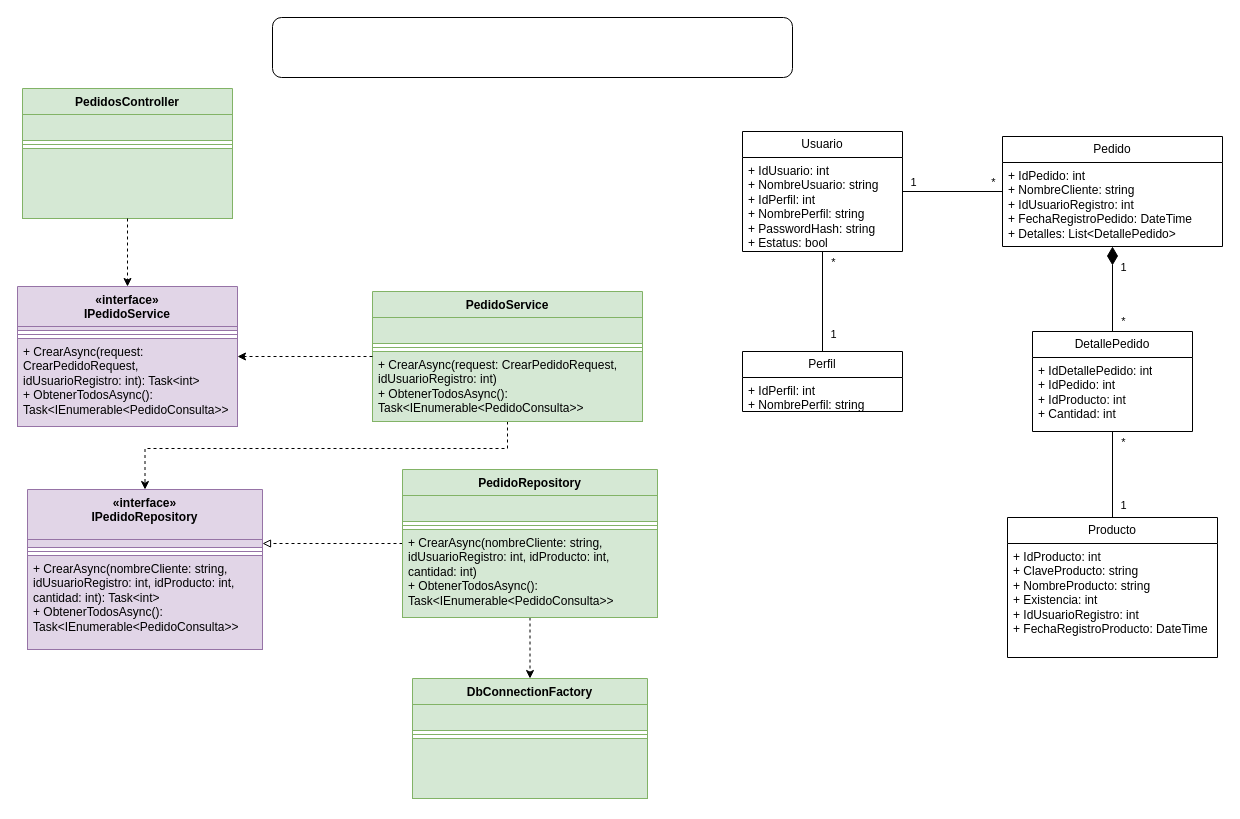
The diagram is 1240 pixels wide and 819 high, and some of its shapes have lost their labels. The shapes that lost their labels are listed below. From the top down, each one's centre as x and y in pixels, then its label:
[532,47]: Diagrama de clases — BSC
[127,127]: - _pedidoService: IPedidoService
[127,183]: + Crear(request: CrearPedidoRequest): Task<IActionResult> + ObtenerTodos()
[507,330]: - _pedidoRepository: IPedidoRepository
[530,508]: - _connectionFactory: DbConnectionFactory
[530,717]: - _connectionString: string
[530,768]: + CreateConnection(): IDbConnection
